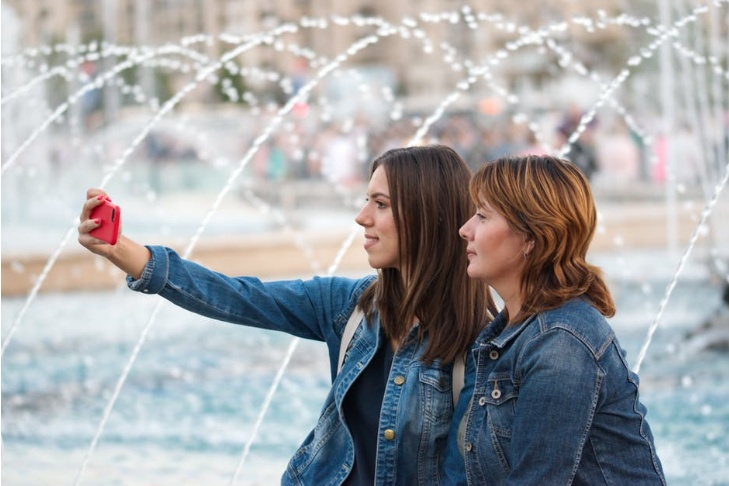face: (458, 188, 514, 283), (355, 166, 396, 268)
